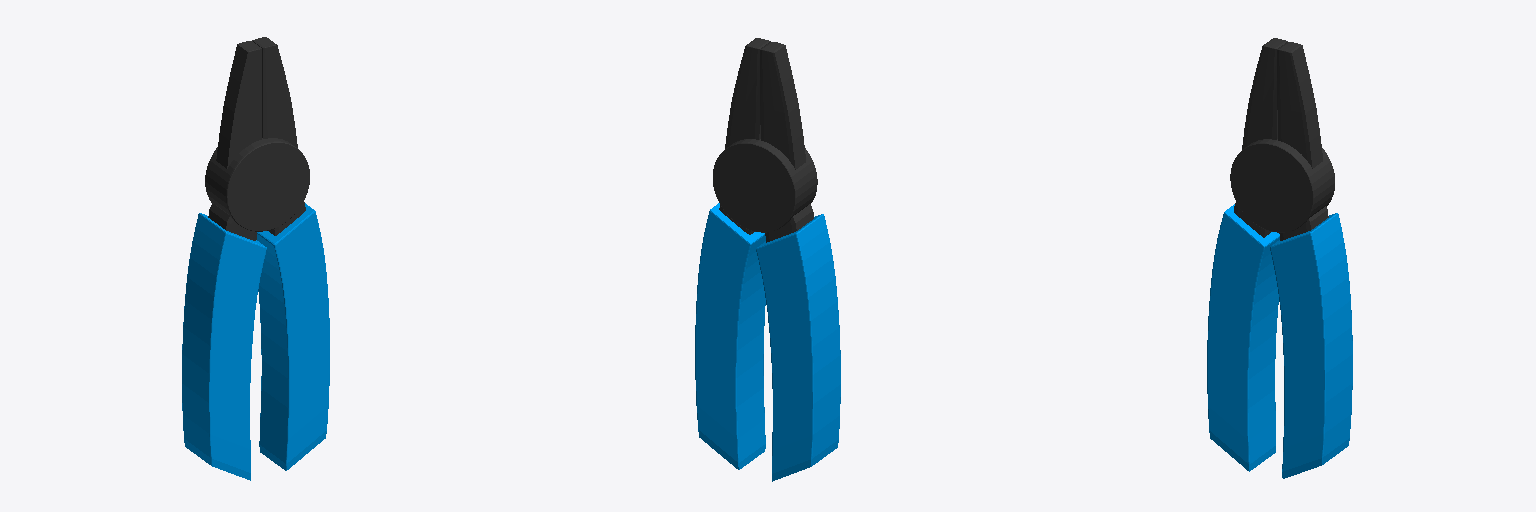
File: Plier.obj
The picture shows the model from 3 angles: view 1: azimuth 30°, elevation 25°; view 2: azimuth 150°, elevation 25°; view 3: azimuth 330°, elevation 25°; orthographic projection.
Parts seen in each view (by area): view 1: polySurface6; view 2: polySurface6; view 3: polySurface6.
Part boxes in pixels (x1,y1,x2,y2): polySurface6: (182, 37, 329, 480); polySurface6: (695, 38, 840, 481); polySurface6: (1207, 38, 1352, 478).
Size of the model in its own units: 0.4106 by 1.38 by 0.1712.